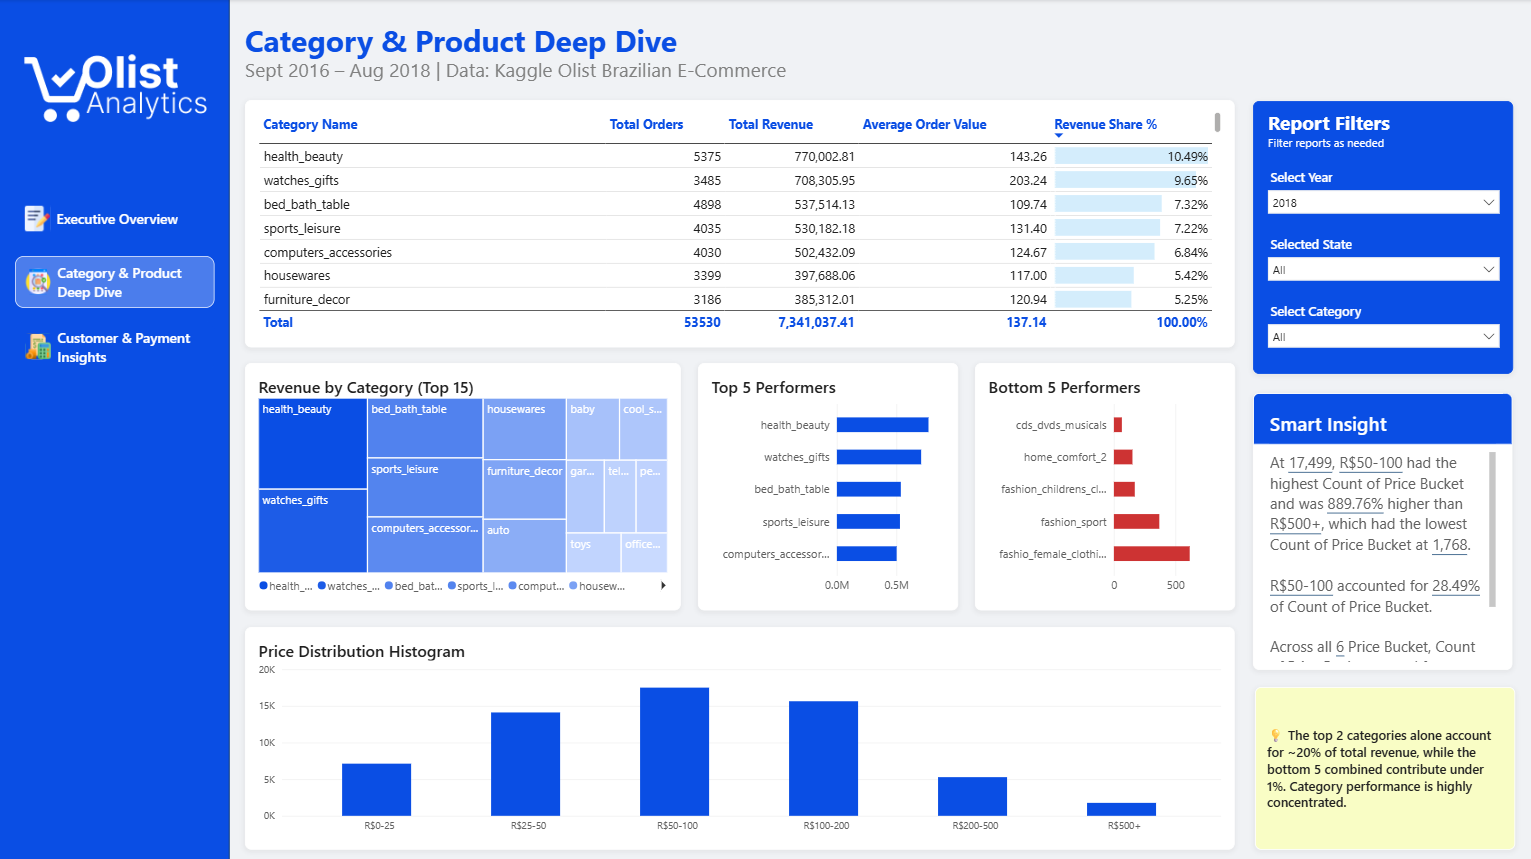

The dashboard page shown, as its layout file describes it:
{"tool":"powerbi","page":{"name":"Category & Product Deep Dive","canvas":[1920,1080],"ordinal":1},"visuals":[{"type":"shape","box":[0,0,288.9,1080],"z":0},{"type":"shape","box":[1573.3,861.7,325.7,203.9],"z":500},{"type":"shape","title":"Filters","box":[1570.9,127.3,326.4,341.8],"z":1000,"group":"g1"},{"type":"actionButton","box":[20,242.5,250,65],"z":1000},{"type":"actionButton","box":[20,322.5,250,65],"z":2000},{"type":"actionButton","box":[20,403.8,250,65],"z":3000},{"type":"textbox","box":[308.6,25.7,545.7,55.7],"z":4000},{"type":"textbox","box":[308.6,71.4,797.1,40],"z":5000},{"type":"image","box":[24.3,50,238.6,121.4],"z":6000},{"type":"group","id":"g1","title":"Group 1","box":[1570.9,127.3,326.4,341.8],"z":7000},{"type":"tableEx","fields":{"Values":["dim_product.category_name_en","_Measures.Total Orders","_Measures.Total Revenue","_Measures.Average Order Value","_Measures.Revenue Share %"]},"box":[308.3,126.7,1240,310],"z":8000},{"type":"treemap","title":"Revenue by Category (Top 15)","fields":{"Group":["dim_product.category_name_en"],"Values":["_Measures.Total Revenue"]},"box":[308.8,456.2,546.2,310],"z":9000},{"type":"barChart","title":"Top 5 Performers","fields":{"Category":["dim_product.category_name_en"],"Y":["_Measures.Total Revenue"]},"box":[876.2,456.2,326.2,310],"z":10000},{"type":"barChart","title":"Bottom 5 Performers","fields":{"Category":["dim_product.category_name_en"],"Y":["_Measures.Total Revenue"]},"box":[1222.5,456.2,326.2,310],"z":11000},{"type":"columnChart","title":"Price Distribution Histogram","fields":{"Category":["fact_order_items.Price Bucket"],"Y":["CountNonNull(fact_order_items.Price Bucket)"]},"box":[308.6,787.1,1240,278.6],"z":12000},{"type":"textbox","title":"Smart Insight","box":[1571.7,493.3,325,346.7],"z":13000},{"type":"cardVisual","fields":{"Data":["_Measures.Insight - Category Concentration"]},"box":[1589,875.3,294.9,175.1],"z":13001},{"type":"slicer","fields":{"Values":["dim_date.year"]},"box":[1584.5,211.8,300,75.5],"z":15000,"group":"g1"},{"type":"slicer","fields":{"Values":["dim_customer.customer_state"]},"box":[1584.5,295.5,300,75.5],"z":16000,"group":"g1"},{"type":"slicer","fields":{"Values":["dim_product.category_name_en"]},"box":[1584.5,379.1,300,75.5],"z":17000,"group":"g1"},{"type":"textbox","box":[1590,137.8,287.8,62.2],"z":18000,"group":"g1"}]}

Visuals, with their boxes on the page's 1920x1080 design canvas (x1, y1, x2, y2). These are canvas units, not pixel positions in the 1531x859 screenshot, which may show the page scaled, cropped or inside an application window:
shape: box(0, 0, 289, 1080)
shape: box(1573, 862, 1899, 1066)
"Filters" shape: box(1571, 127, 1897, 469)
actionButton: box(20, 242, 270, 308)
actionButton: box(20, 322, 270, 388)
actionButton: box(20, 404, 270, 469)
textbox: box(309, 26, 854, 81)
textbox: box(309, 71, 1106, 111)
image: box(24, 50, 263, 171)
"Group 1" group: box(1571, 127, 1897, 469)
tableEx - dim_product.category_name_en x _Measures.Total Orders: box(308, 127, 1548, 437)
"Revenue by Category (Top 15)" treemap: box(309, 456, 855, 766)
"Top 5 Performers" barChart: box(876, 456, 1202, 766)
"Bottom 5 Performers" barChart: box(1222, 456, 1549, 766)
"Price Distribution Histogram" columnChart: box(309, 787, 1549, 1066)
"Smart Insight" textbox: box(1572, 493, 1897, 840)
cardVisual - _Measures.Insight - Category Concentration: box(1589, 875, 1884, 1050)
slicer - dim_date.year: box(1584, 212, 1884, 287)
slicer - dim_customer.customer_state: box(1584, 296, 1884, 371)
slicer - dim_product.category_name_en: box(1584, 379, 1884, 455)
textbox: box(1590, 138, 1878, 200)
